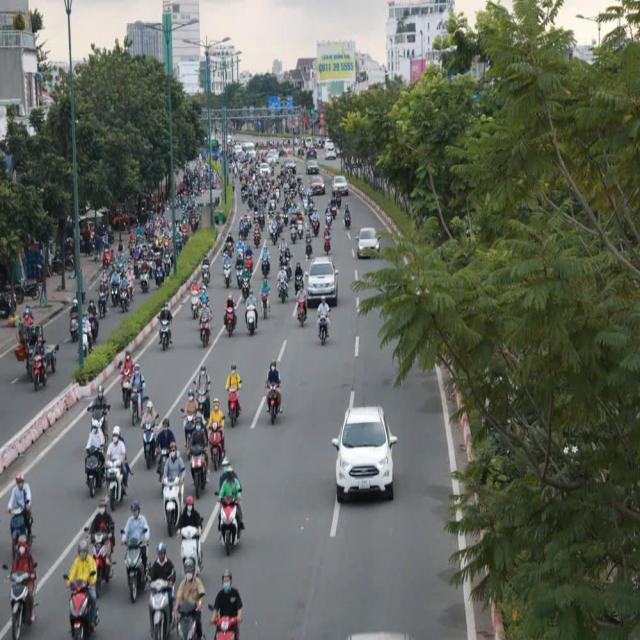car: (308, 252, 340, 310), (356, 224, 382, 262), (331, 172, 350, 200), (310, 172, 326, 200), (304, 154, 322, 178)
motobyte: (215, 453, 248, 555), (175, 493, 207, 582), (187, 413, 210, 499), (262, 356, 285, 425), (225, 359, 244, 427), (208, 396, 225, 471), (195, 362, 212, 422), (293, 281, 311, 329), (315, 294, 331, 347), (243, 287, 260, 336), (223, 290, 239, 340), (198, 298, 214, 348), (188, 273, 200, 321), (260, 276, 272, 320), (293, 258, 305, 300), (201, 250, 213, 291), (221, 247, 233, 288), (277, 264, 289, 302), (234, 235, 246, 268), (322, 224, 334, 257), (303, 227, 316, 257), (251, 216, 263, 248), (342, 199, 354, 231), (241, 265, 251, 302), (261, 242, 271, 279), (243, 242, 254, 275), (279, 236, 289, 271), (311, 206, 321, 237), (326, 201, 334, 230), (335, 183, 343, 210)
